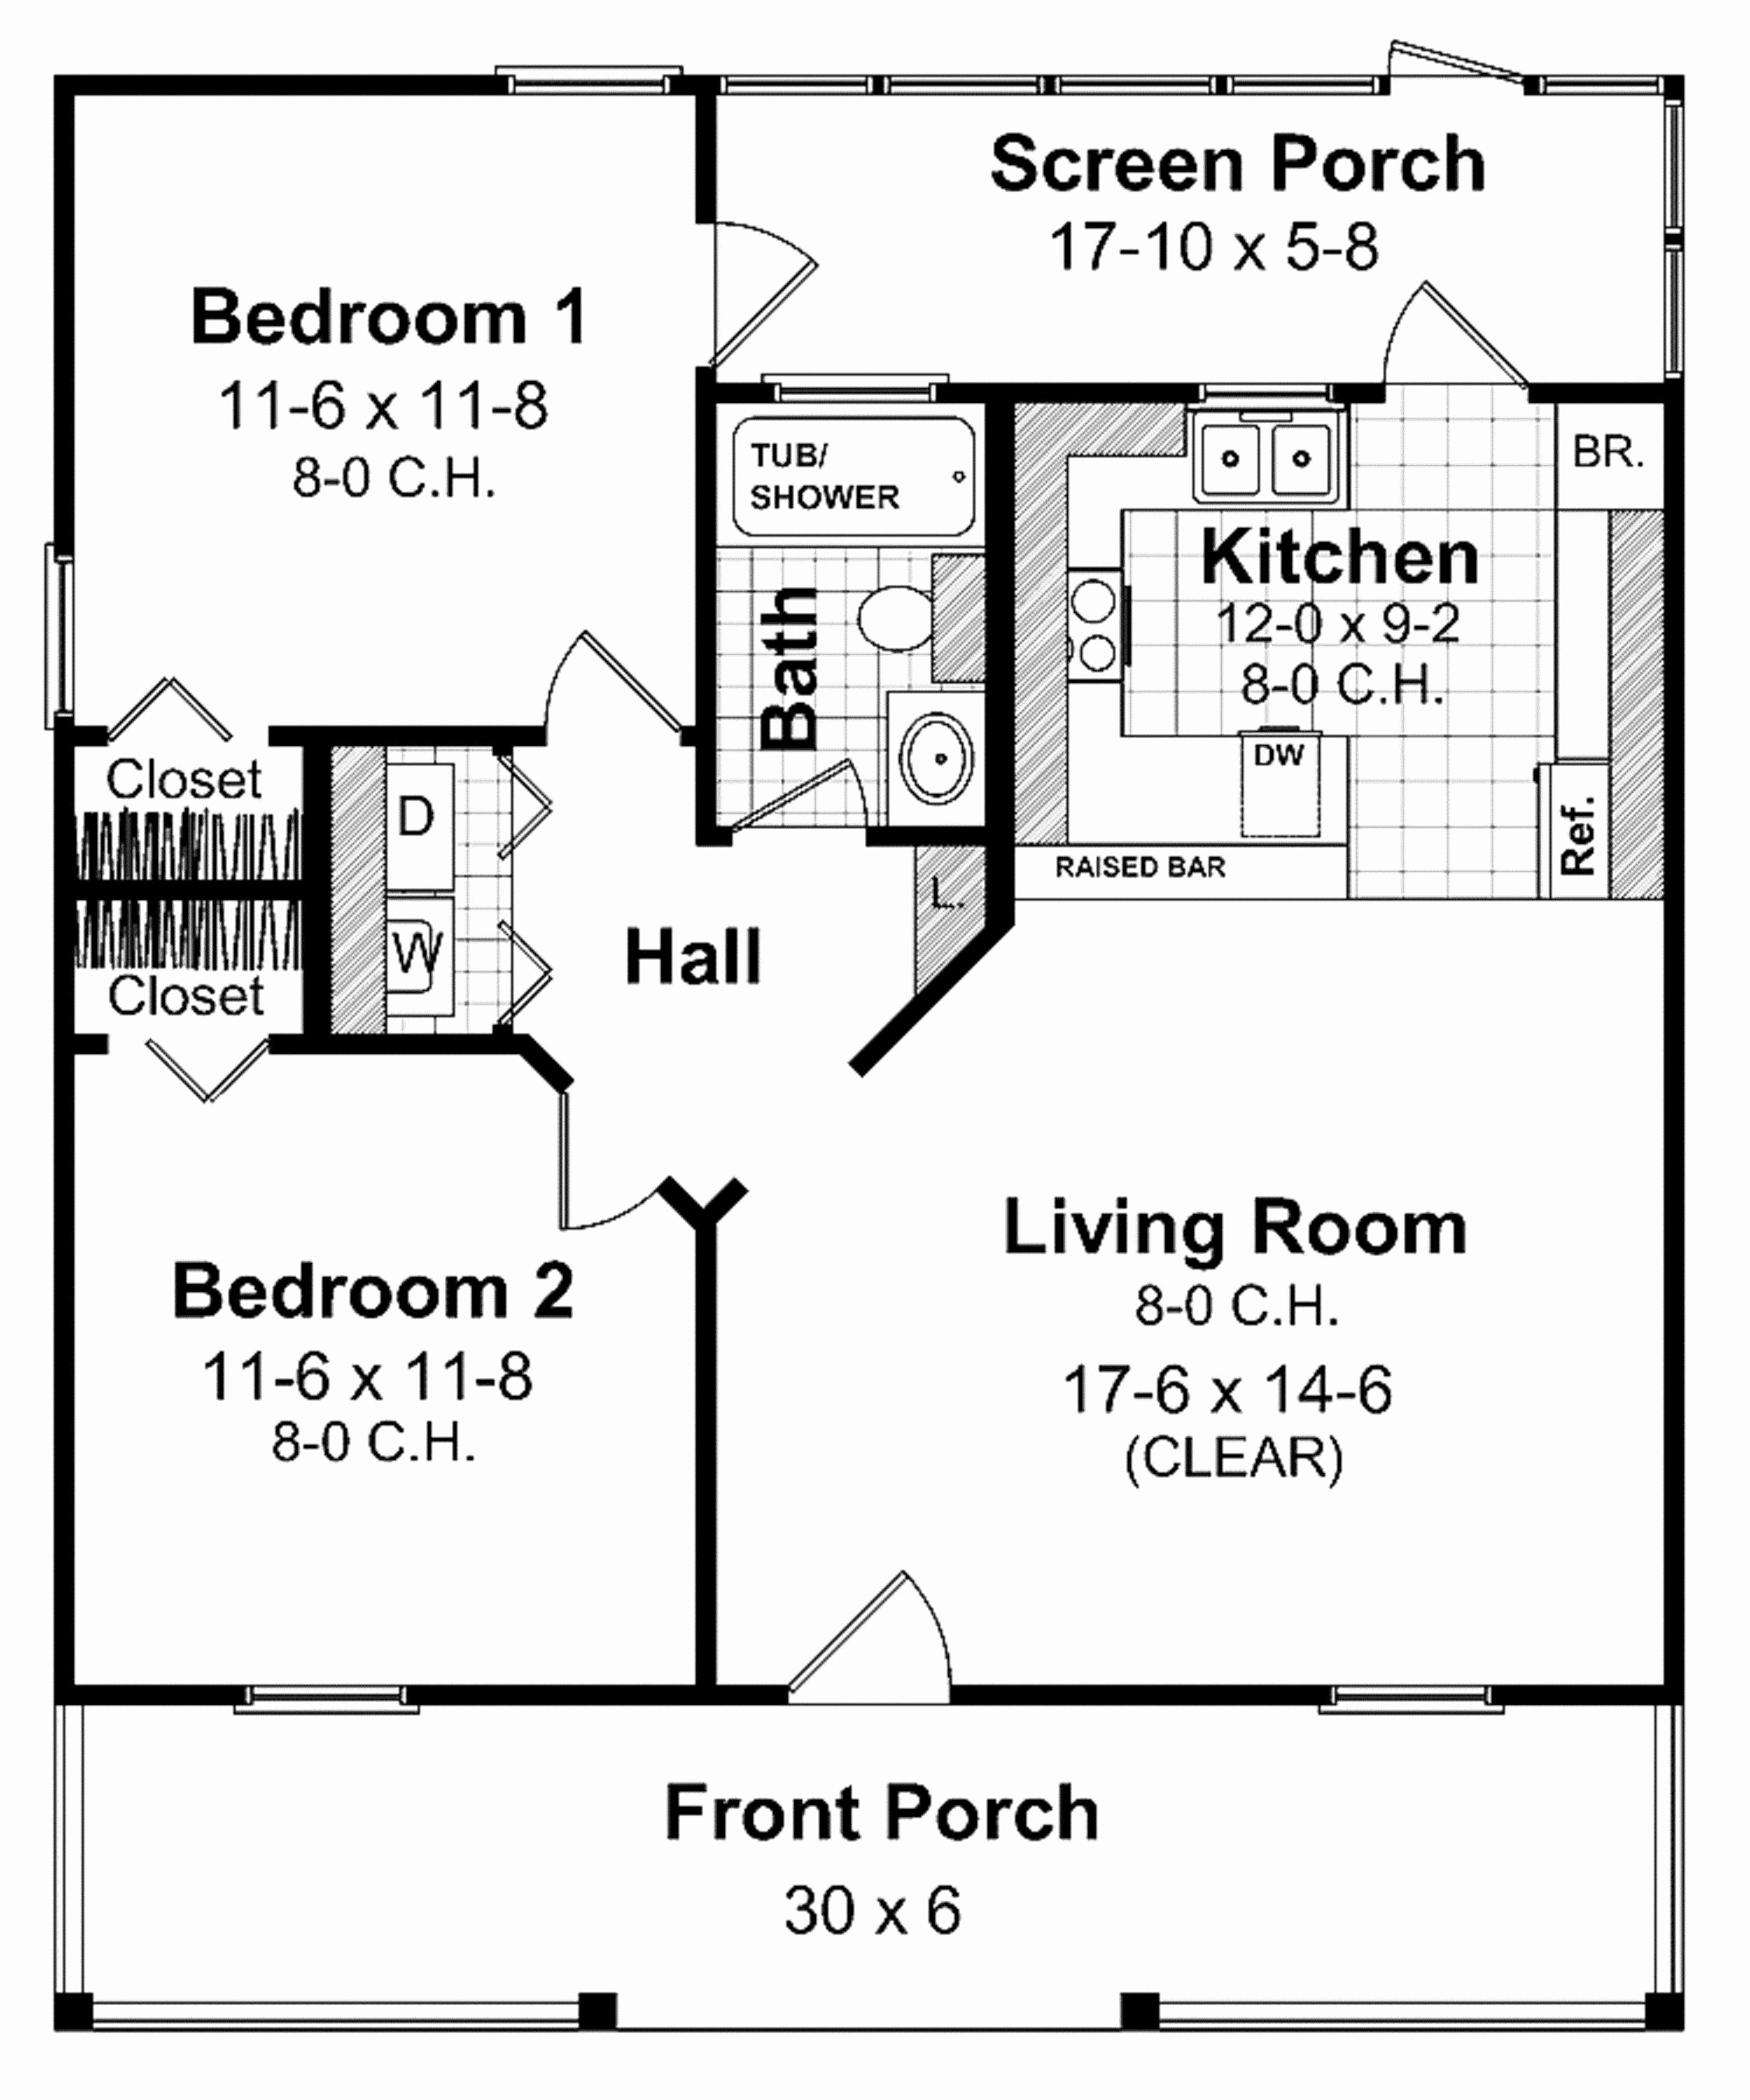wall: (1663, 380, 1685, 1702), (52, 726, 77, 1702), (984, 382, 1019, 924), (696, 1214, 724, 1690), (58, 68, 504, 96), (417, 1685, 801, 1708), (58, 73, 75, 541), (302, 731, 326, 1060), (277, 726, 546, 748), (961, 1688, 1349, 1704), (274, 1033, 509, 1057), (92, 1678, 260, 1709), (984, 1688, 1349, 1702), (940, 385, 1197, 405), (1500, 1680, 1675, 1702), (867, 816, 981, 846), (703, 382, 710, 851), (698, 61, 717, 227), (1535, 382, 1691, 401), (708, 378, 789, 401), (682, 77, 735, 99), (1336, 378, 1378, 401), (73, 1029, 108, 1052)
